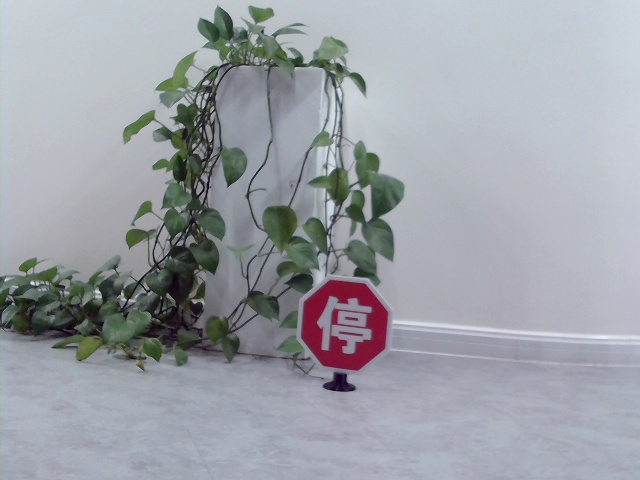stop: (316, 290, 371, 352)
